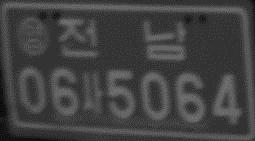0: (139, 70, 172, 121), (16, 66, 47, 115)
4: (210, 72, 243, 125)
5: (106, 69, 137, 120)
6: (173, 71, 205, 123), (48, 67, 78, 116)
사: (80, 71, 105, 116)
영: (16, 16, 50, 56)
전남_D: (56, 18, 188, 61)
